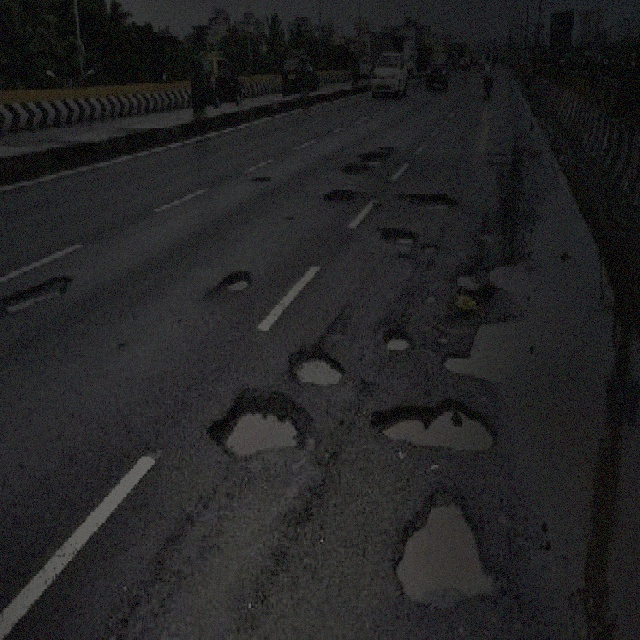pothole: (392, 484, 504, 604), (370, 395, 498, 452), (209, 386, 311, 457), (441, 314, 518, 378), (1, 268, 72, 314), (290, 344, 344, 386), (341, 139, 395, 177), (399, 188, 456, 209), (218, 267, 251, 294), (322, 183, 354, 205), (384, 226, 418, 245), (384, 328, 413, 350)
